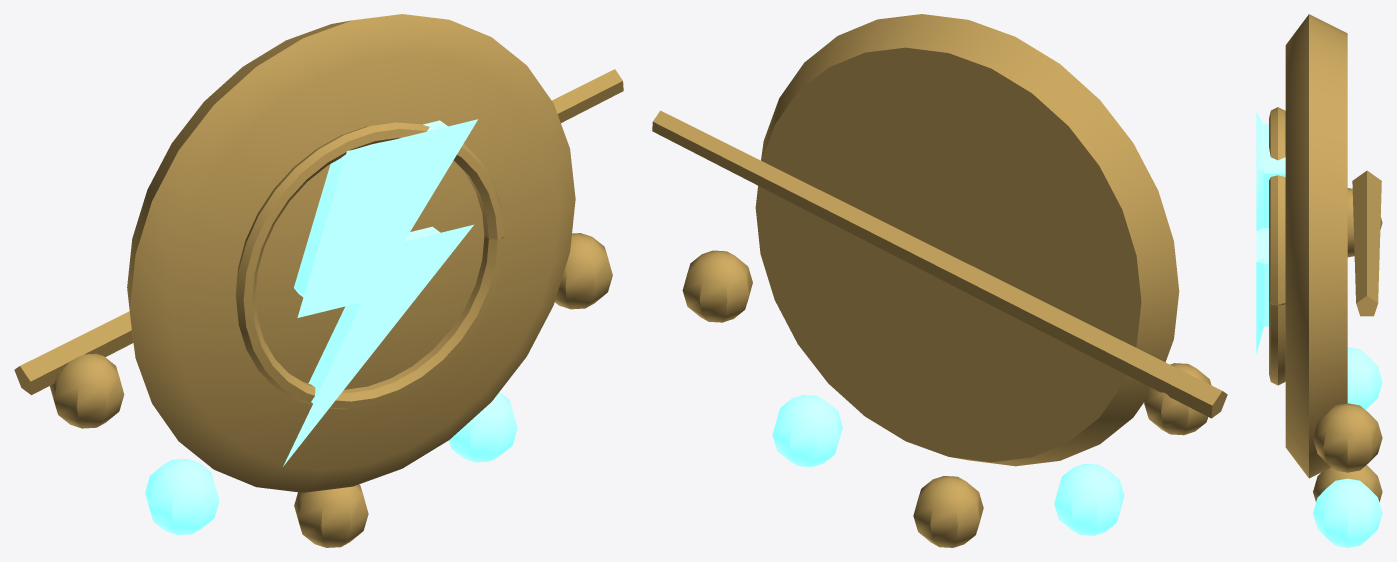
File: boss_truth_of_raikuru_accessory_4.glb
3 renders of one model, left to right at view 1: azimuth 30°, elevation 25°; view 2: azimuth 150°, elevation 25°; view 3: azimuth 270°, elevation 25°, orthographic. The views are drawn at different scales.
Parts seen in each view (by area): view 1: boss_truth_of_raikuru_accessory_4; view 2: boss_truth_of_raikuru_accessory_4; view 3: boss_truth_of_raikuru_accessory_4.
Part boxes in pixels (<box>): boss_truth_of_raikuru_accessory_4: <box>14,14,623,547</box>; boss_truth_of_raikuru_accessory_4: <box>652,14,1227,547</box>; boss_truth_of_raikuru_accessory_4: <box>1256,14,1382,547</box>.
Size of the model in its own units: 0.1616 by 0.139 by 0.0326.
